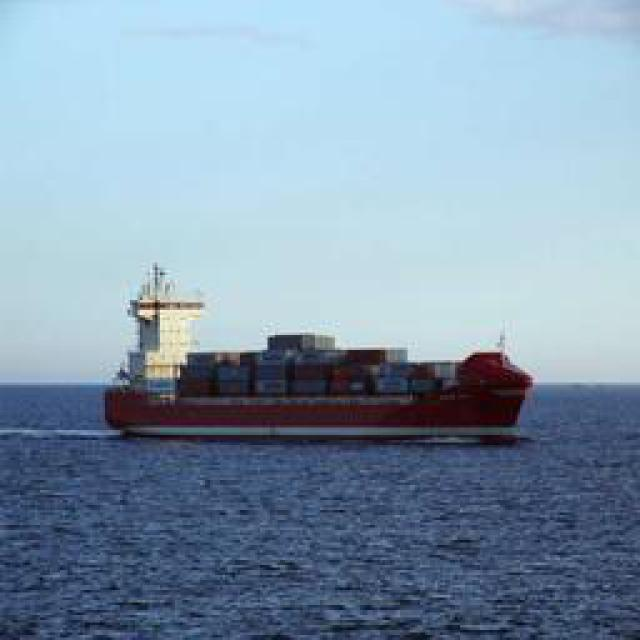Ship: (109, 305, 532, 440)
